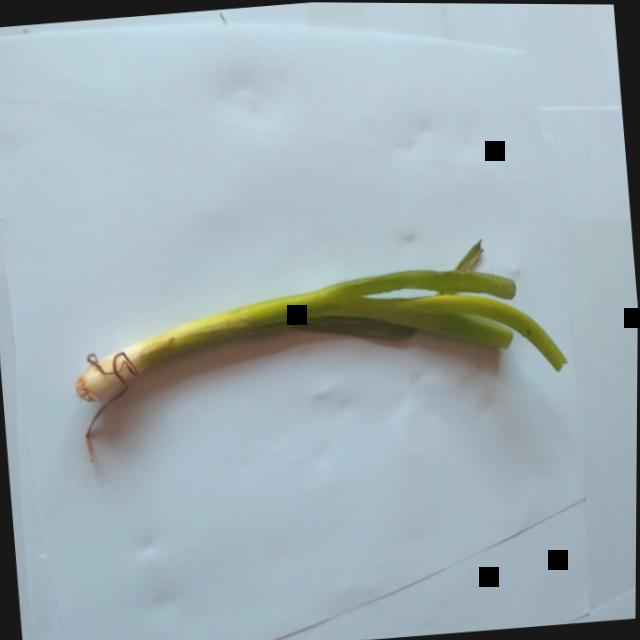Springonion: (37, 189, 592, 498)
